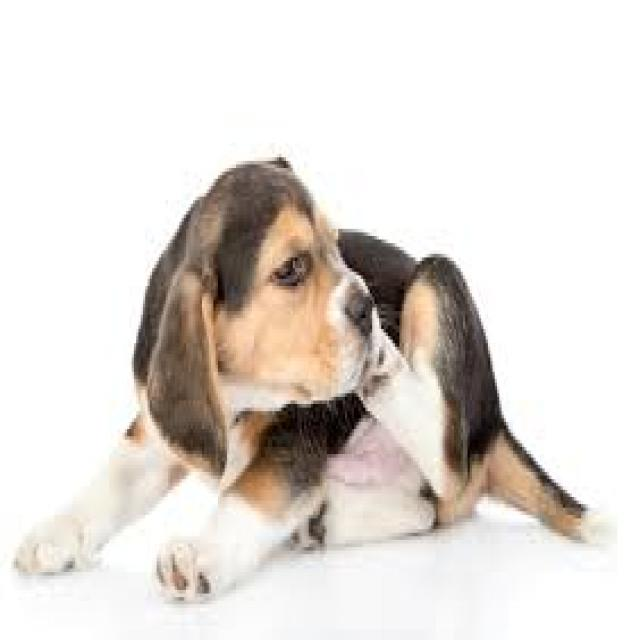Dog: (0, 143, 622, 608)
